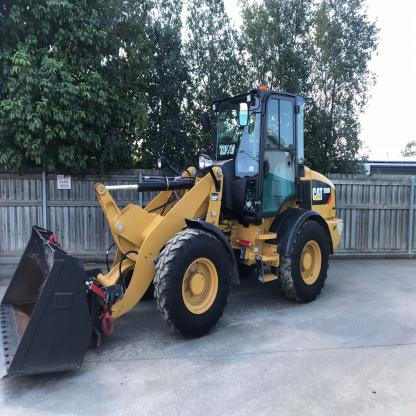bull_dozer/loader/grader: (9, 70, 357, 396)
